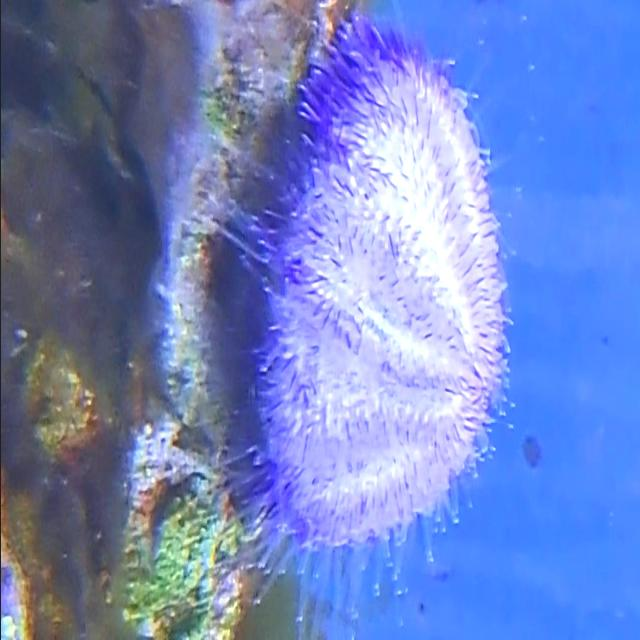Deniz Kestanesi: (246, 29, 518, 616)
